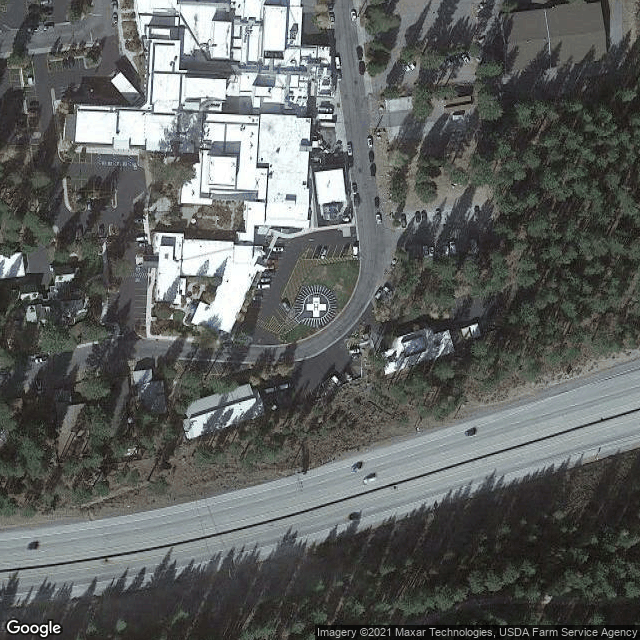Helipad: (299, 289, 335, 323)
